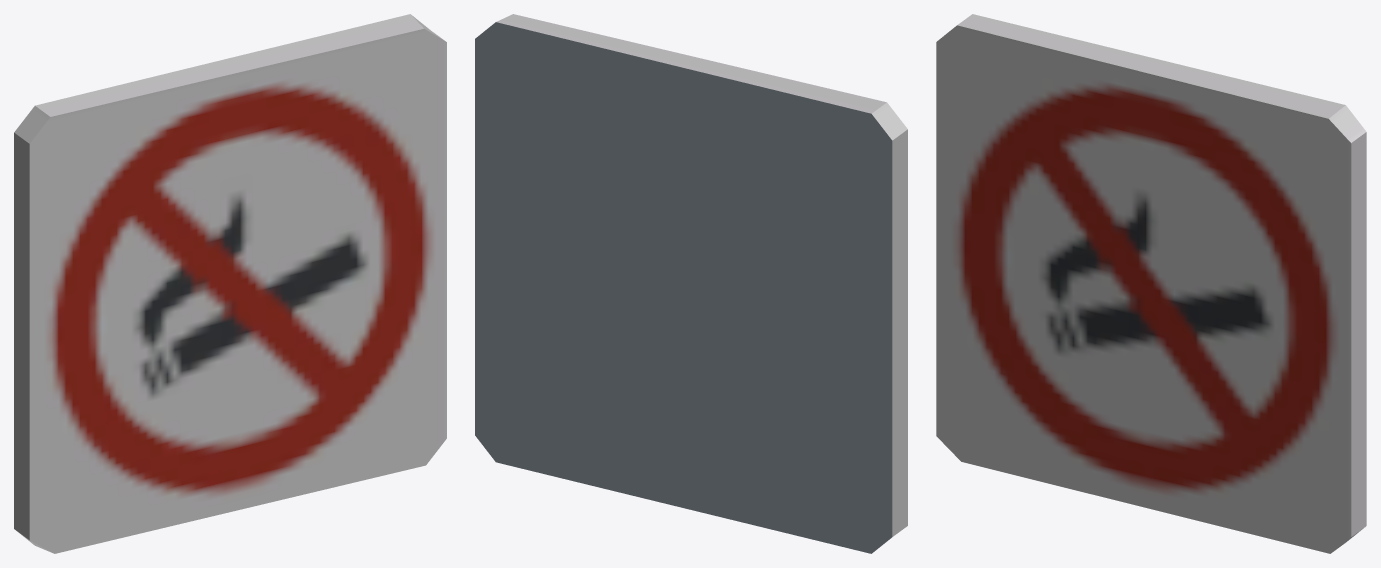
The model's file is SM_Sign_Board_Prohibited_03.obj.
3 renders of one model, left to right at view 1: azimuth 30°, elevation 25°; view 2: azimuth 150°, elevation 25°; view 3: azimuth 330°, elevation 25°, orthographic.
Parts seen in each view (by area): view 1: SM_Sign_Board_Prohibited_03_0; view 2: SM_Sign_Board_Prohibited_03_0; view 3: SM_Sign_Board_Prohibited_03_0.
Boxes of the visible parts, bbox=[...] form: SM_Sign_Board_Prohibited_03_0: bbox=[14, 14, 446, 553]; SM_Sign_Board_Prohibited_03_0: bbox=[475, 14, 907, 553]; SM_Sign_Board_Prohibited_03_0: bbox=[936, 14, 1366, 553].
Size of the model in its own units: 0.2928 by 0.2951 by 0.0189.
1 material, 1 textured.
